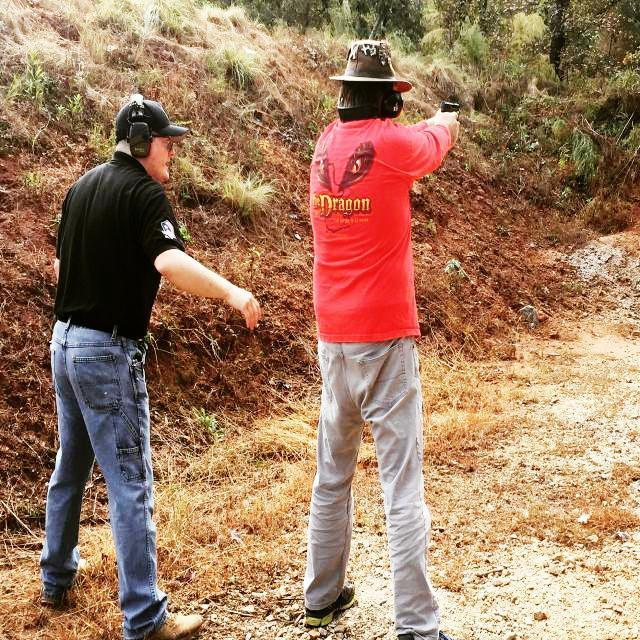Gun: (436, 91, 462, 136)
